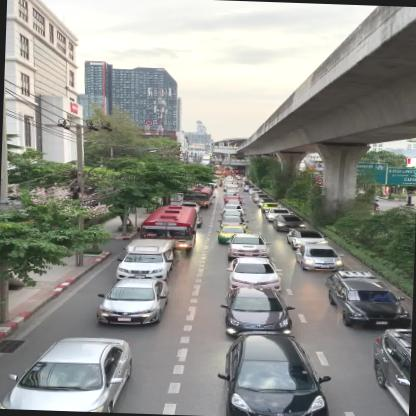bus: (140, 205, 198, 255)
car: (0, 335, 132, 414), (219, 329, 332, 415), (324, 269, 412, 330), (93, 276, 170, 328), (221, 286, 294, 338), (124, 237, 172, 282), (228, 256, 282, 289), (294, 243, 346, 273), (288, 228, 332, 247), (248, 233, 272, 259), (274, 214, 308, 232), (229, 225, 247, 244)
